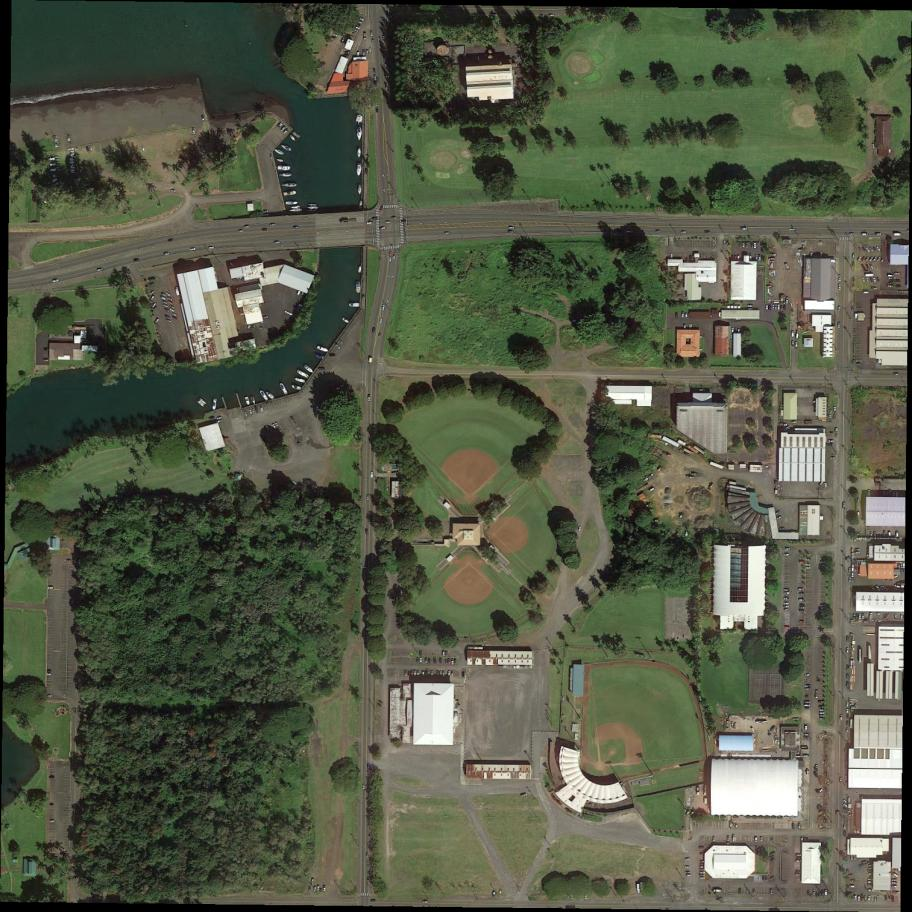large-vehicle: (174, 286, 181, 297), (637, 883, 641, 894), (696, 786, 700, 796), (893, 233, 902, 237), (713, 889, 722, 893), (815, 690, 819, 699), (363, 33, 367, 41)
ship: (259, 389, 269, 402), (279, 382, 289, 395), (297, 369, 310, 379), (197, 397, 208, 408), (303, 364, 315, 374), (316, 345, 330, 353), (280, 144, 292, 153), (306, 204, 319, 212), (283, 190, 297, 197), (265, 391, 275, 400), (355, 114, 363, 125), (274, 148, 285, 156), (294, 377, 306, 384), (282, 183, 298, 188), (291, 384, 302, 391), (357, 127, 362, 141), (292, 132, 302, 139), (349, 302, 360, 308), (213, 398, 218, 411), (357, 164, 362, 177), (342, 317, 350, 325), (356, 282, 361, 294), (245, 396, 251, 406), (315, 354, 325, 360), (277, 166, 291, 170), (251, 396, 257, 405), (279, 173, 292, 177), (357, 148, 362, 158), (289, 135, 296, 142), (286, 201, 298, 205), (358, 265, 363, 273), (358, 185, 362, 195), (289, 209, 302, 212), (359, 201, 363, 209), (277, 159, 284, 163), (291, 206, 300, 209)
small-vehicle: (284, 310, 294, 317), (290, 416, 297, 424), (335, 343, 342, 351), (357, 16, 365, 23), (892, 872, 900, 879), (784, 425, 792, 432), (875, 256, 882, 264), (774, 509, 782, 516), (642, 477, 649, 484), (647, 473, 654, 480), (283, 128, 290, 135), (149, 295, 156, 302), (870, 586, 877, 593), (355, 19, 363, 25), (353, 25, 361, 31), (520, 792, 528, 798), (894, 584, 902, 590), (876, 245, 882, 253), (861, 263, 867, 271), (784, 262, 790, 270), (867, 489, 872, 498), (890, 278, 901, 282), (341, 35, 347, 42), (648, 487, 655, 493), (281, 125, 287, 132), (277, 122, 283, 129), (164, 307, 171, 313), (164, 314, 171, 320), (843, 807, 850, 813), (869, 277, 875, 284), (875, 609, 881, 616), (876, 585, 882, 592), (770, 857, 777, 863), (869, 246, 875, 253), (858, 246, 864, 253), (860, 256, 866, 263), (864, 256, 870, 263), (868, 256, 874, 263), (769, 851, 776, 857), (776, 515, 783, 521), (865, 264, 871, 271), (368, 357, 373, 365), (365, 528, 370, 536), (192, 128, 197, 136), (64, 558, 72, 563), (849, 879, 857, 884), (886, 284, 894, 289), (292, 480, 298, 486), (150, 289, 156, 295), (154, 318, 160, 324), (843, 803, 849, 809), (795, 870, 804, 874), (842, 815, 848, 821), (843, 810, 849, 816), (846, 680, 850, 689), (882, 530, 886, 539), (790, 420, 799, 424), (804, 421, 813, 425), (872, 257, 878, 263), (869, 264, 875, 270), (779, 423, 788, 427), (842, 501, 846, 510), (354, 22, 361, 27), (732, 835, 737, 842), (160, 296, 167, 301), (162, 303, 169, 308), (169, 305, 176, 310), (172, 315, 179, 320), (508, 229, 515, 234), (845, 702, 850, 709), (861, 860, 868, 865), (865, 277, 870, 284), (873, 277, 878, 284), (866, 247, 871, 254), (852, 261, 857, 268), (818, 699, 825, 704), (824, 482, 829, 489), (43, 348, 51, 352), (447, 658, 451, 666), (216, 420, 224, 424), (189, 248, 197, 252), (892, 891, 900, 895), (846, 635, 850, 643), (848, 885, 856, 889), (838, 283, 842, 291), (768, 253, 776, 257), (815, 764, 819, 772), (353, 28, 359, 33), (166, 292, 172, 297), (161, 292, 167, 297), (162, 300, 168, 305), (168, 301, 174, 306), (272, 424, 277, 430), (275, 422, 280, 428), (167, 297, 173, 302), (170, 308, 176, 313), (133, 258, 139, 263), (152, 302, 157, 308), (842, 799, 848, 804), (752, 889, 757, 895), (861, 277, 866, 283), (876, 277, 881, 283), (880, 586, 885, 592), (882, 586, 887, 592), (885, 586, 890, 592), (857, 257, 862, 263), (722, 240, 727, 246), (880, 258, 885, 264), (382, 304, 386, 311), (329, 353, 336, 357), (578, 526, 582, 533), (436, 671, 440, 678), (170, 189, 177, 193), (331, 36, 338, 40), (385, 83, 389, 90), (430, 670, 434, 677), (584, 894, 588, 901), (726, 835, 730, 842), (704, 798, 708, 805), (681, 311, 685, 318), (433, 657, 437, 664), (367, 763, 371, 770), (492, 891, 496, 898), (323, 885, 327, 892), (201, 115, 205, 122), (97, 268, 104, 272), (154, 305, 158, 312), (891, 895, 895, 902), (869, 867, 876, 871), (845, 776, 849, 783), (846, 673, 850, 680), (891, 879, 898, 883), (853, 854, 857, 861), (895, 284, 902, 288), (888, 531, 892, 538), (871, 286, 878, 290), (888, 281, 895, 285), (43, 359, 50, 363), (897, 562, 901, 569), (789, 228, 796, 232), (758, 254, 762, 261), (784, 626, 791, 630), (819, 705, 826, 709), (819, 708, 826, 712), (760, 836, 764, 843), (830, 456, 837, 460), (799, 592, 806, 596), (798, 560, 805, 564), (805, 563, 812, 567), (217, 416, 222, 421), (265, 426, 270, 431), (165, 251, 170, 256), (873, 247, 878, 252), (730, 722, 735, 727), (379, 318, 383, 324), (368, 394, 371, 402), (370, 472, 374, 478), (366, 495, 370, 501), (333, 33, 339, 37), (373, 68, 377, 74), (384, 64, 388, 70), (422, 671, 426, 677), (729, 823, 733, 829), (699, 863, 707, 866), (715, 898, 723, 901), (731, 327, 735, 333), (737, 328, 741, 334), (410, 670, 414, 676), (444, 659, 448, 665), (86, 146, 90, 152), (249, 409, 253, 415), (244, 411, 248, 417), (49, 775, 55, 779), (311, 878, 315, 884), (262, 228, 268, 232), (168, 238, 174, 242), (149, 282, 155, 286), (166, 319, 172, 323), (884, 895, 888, 901), (839, 777, 843, 783), (800, 837, 804, 843), (854, 895, 858, 901), (861, 614, 865, 620), (889, 489, 892, 497), (261, 316, 269, 319), (870, 609, 873, 617), (896, 531, 900, 537), (795, 343, 799, 349), (796, 331, 799, 339), (872, 143, 876, 149), (863, 247, 867, 253), (785, 296, 788, 304), (820, 606, 826, 610), (733, 723, 737, 729), (819, 711, 825, 715), (826, 440, 834, 443), (785, 547, 791, 551), (784, 588, 790, 592), (784, 602, 790, 606), (806, 558, 812, 562), (797, 588, 805, 591), (385, 221, 392, 224), (318, 368, 325, 371), (448, 671, 451, 678), (442, 671, 445, 678), (439, 671, 442, 678), (380, 227, 387, 230), (371, 38, 374, 45), (371, 30, 374, 37), (363, 50, 366, 57), (357, 51, 360, 58), (374, 74, 377, 81), (368, 101, 371, 108), (425, 670, 428, 677), (700, 860, 707, 863), (570, 893, 573, 900), (738, 888, 741, 895), (451, 658, 454, 665), (362, 784, 365, 791), (699, 874, 706, 877), (270, 224, 277, 227), (52, 280, 59, 283), (891, 886, 898, 889), (843, 823, 846, 830), (846, 647, 849, 654), (792, 823, 795, 830), (798, 823, 801, 830), (867, 889, 874, 892), (868, 878, 875, 881), (851, 854, 854, 861), (863, 291, 870, 294), (888, 277, 895, 280), (894, 272, 901, 275), (896, 492, 899, 499), (849, 567, 852, 574), (901, 568, 904, 575), (901, 562, 904, 569), (893, 492, 896, 499), (795, 860, 802, 863), (862, 233, 869, 236), (875, 233, 882, 236), (791, 330, 794, 337), (838, 274, 841, 281), (838, 305, 841, 312), (704, 231, 711, 234), (749, 254, 752, 261), (755, 254, 758, 261), (769, 258, 776, 261), (810, 252, 813, 259), (799, 620, 806, 623), (804, 704, 811, 707), (772, 836, 775, 843), (798, 599, 805, 602), (837, 322, 840, 329), (783, 597, 790, 600), (783, 605, 790, 608), (734, 328, 738, 333), (445, 651, 449, 656), (419, 651, 423, 656), (260, 407, 264, 412), (251, 408, 255, 413), (173, 313, 178, 317), (867, 896, 871, 901), (888, 149, 892, 154), (391, 216, 397, 219), (393, 254, 396, 260), (373, 328, 376, 334), (462, 671, 465, 677), (451, 671, 454, 677), (549, 14, 555, 17), (383, 35, 386, 41), (384, 57, 387, 63), (374, 81, 377, 87), (376, 107, 379, 113), (700, 866, 706, 869), (712, 836, 715, 842), (735, 823, 738, 829), (685, 866, 691, 869), (675, 312, 678, 318), (685, 312, 688, 318), (685, 858, 691, 861), (685, 871, 691, 874), (417, 670, 420, 676), (428, 658, 431, 664), (414, 670, 417, 676), (404, 670, 407, 676), (439, 657, 442, 663), (425, 658, 428, 664), (417, 658, 420, 664), (320, 888, 323, 894), (142, 146, 145, 152), (317, 885, 320, 891), (46, 673, 52, 676), (49, 820, 55, 823), (314, 886, 317, 892), (271, 154, 274, 160), (294, 226, 300, 229), (275, 241, 281, 244), (209, 246, 215, 249), (870, 873, 876, 876), (840, 715, 843, 721), (846, 727, 849, 733), (869, 864, 875, 867), (856, 614, 859, 620), (858, 895, 861, 901), (825, 890, 828, 896), (822, 890, 825, 896), (861, 896, 864, 902), (864, 896, 867, 902), (874, 896, 877, 902), (877, 896, 880, 902), (796, 854, 802, 857), (894, 373, 900, 376), (886, 491, 889, 497), (888, 275, 894, 278), (849, 577, 852, 583), (886, 614, 889, 620), (873, 531, 876, 537), (857, 511, 860, 517), (857, 497, 860, 503), (670, 253, 673, 259), (747, 305, 753, 308), (820, 252, 823, 258), (791, 341, 794, 347), (784, 304, 787, 310), (754, 243, 757, 249), (656, 230, 662, 233), (681, 231, 687, 234), (743, 242, 746, 248), (746, 242, 749, 248), (751, 243, 754, 249), (766, 304, 769, 310), (769, 304, 772, 310), (778, 305, 781, 311), (820, 604, 826, 607), (805, 684, 811, 687), (805, 687, 811, 690), (804, 707, 810, 710), (799, 604, 805, 607), (820, 715, 826, 718), (820, 717, 826, 720), (755, 837, 758, 843), (834, 407, 837, 413), (784, 553, 790, 556), (805, 566, 811, 569), (47, 587, 55, 589), (740, 228, 748, 230), (389, 252, 392, 257), (389, 257, 392, 262), (379, 333, 382, 338), (366, 50, 369, 55), (442, 651, 445, 656), (686, 874, 691, 877), (420, 658, 423, 663), (700, 877, 705, 880), (90, 146, 93, 151), (113, 148, 116, 153), (47, 695, 52, 698), (309, 886, 312, 891), (264, 210, 269, 213), (239, 230, 244, 233), (846, 709, 849, 714), (853, 614, 856, 619), (795, 874, 800, 877), (770, 889, 773, 894), (813, 890, 816, 895), (819, 891, 822, 896), (851, 306, 854, 311), (883, 615, 886, 620), (895, 615, 898, 620), (900, 615, 903, 620), (851, 578, 854, 583), (852, 253, 855, 258), (852, 284, 855, 289), (852, 277, 855, 282), (737, 255, 740, 260), (781, 305, 784, 310), (772, 305, 775, 310), (775, 305, 778, 310), (699, 872, 706, 874), (868, 882, 875, 884), (454, 659, 456, 665), (369, 47, 371, 53), (376, 101, 378, 107), (699, 869, 705, 871), (408, 671, 410, 677), (423, 901, 429, 903), (244, 226, 250, 228), (509, 227, 515, 229), (859, 614, 861, 620), (740, 242, 742, 248), (805, 674, 811, 676), (805, 701, 811, 703), (799, 607, 805, 609), (445, 232, 450, 234), (870, 532, 872, 537), (799, 610, 804, 612)
storage-tank: (436, 45, 450, 56)
